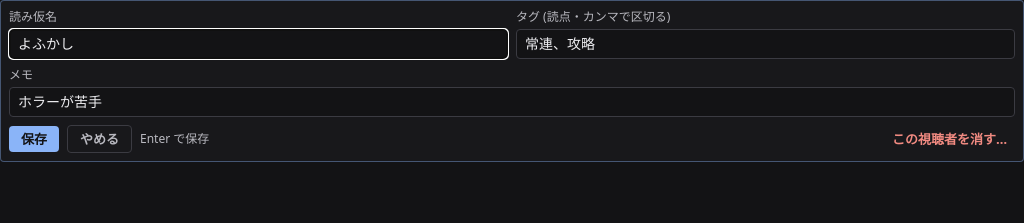
Test: ViewerEditor › 確認で「やめる」を押すと、消さずに編集に戻る
Click the button "この視聴者を消す…". click: point(949, 139)
box: x1=884 y1=126 x2=1015 y2=152
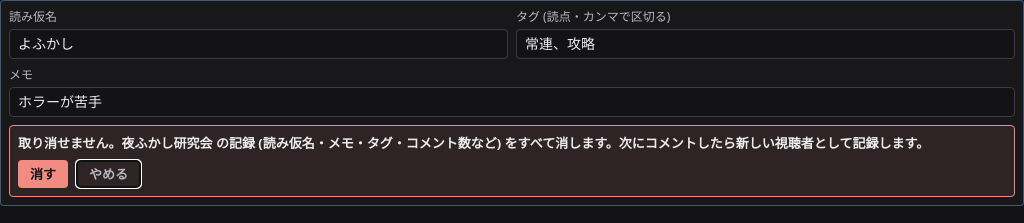
Click the button "やめる". click: point(108, 174)
box: x1=76 y1=160 x2=141 y2=188
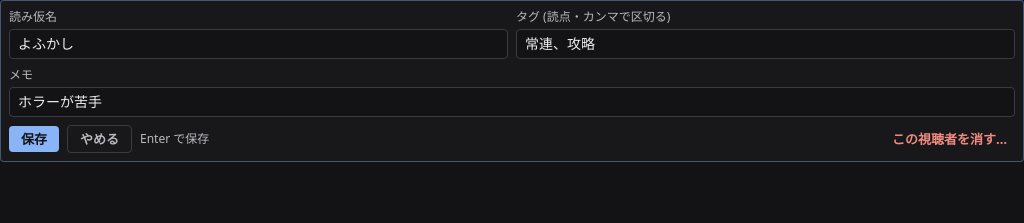
Check: the button "保存" is shown, box x1=9 y1=126 x2=59 y2=152
